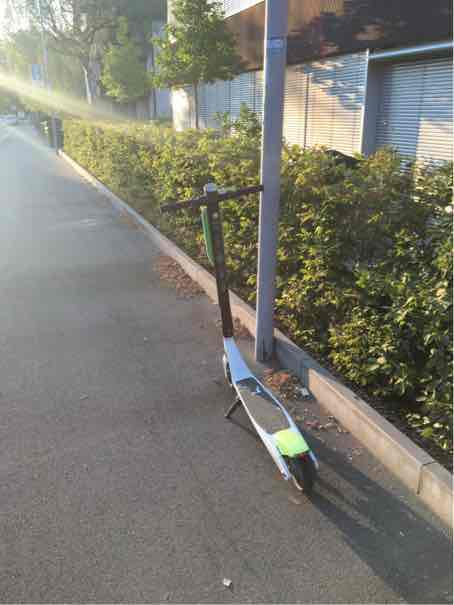scooter: (158, 172, 335, 488)
